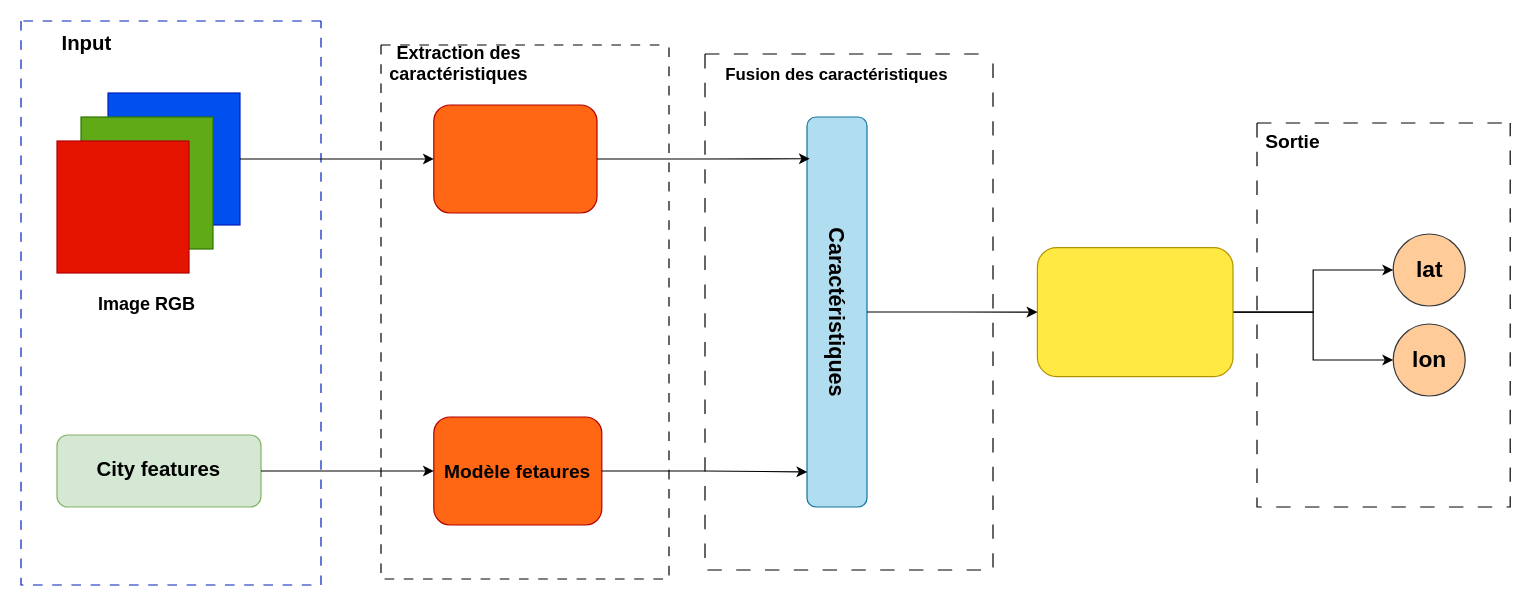
Image size: 1531x606. Some labels were removed from this diagram. The centre of each missing label's shape, as x and y in pixels:
"Modèle de regression" goes at point (1134, 311).
"Modèle images" goes at point (515, 158).
